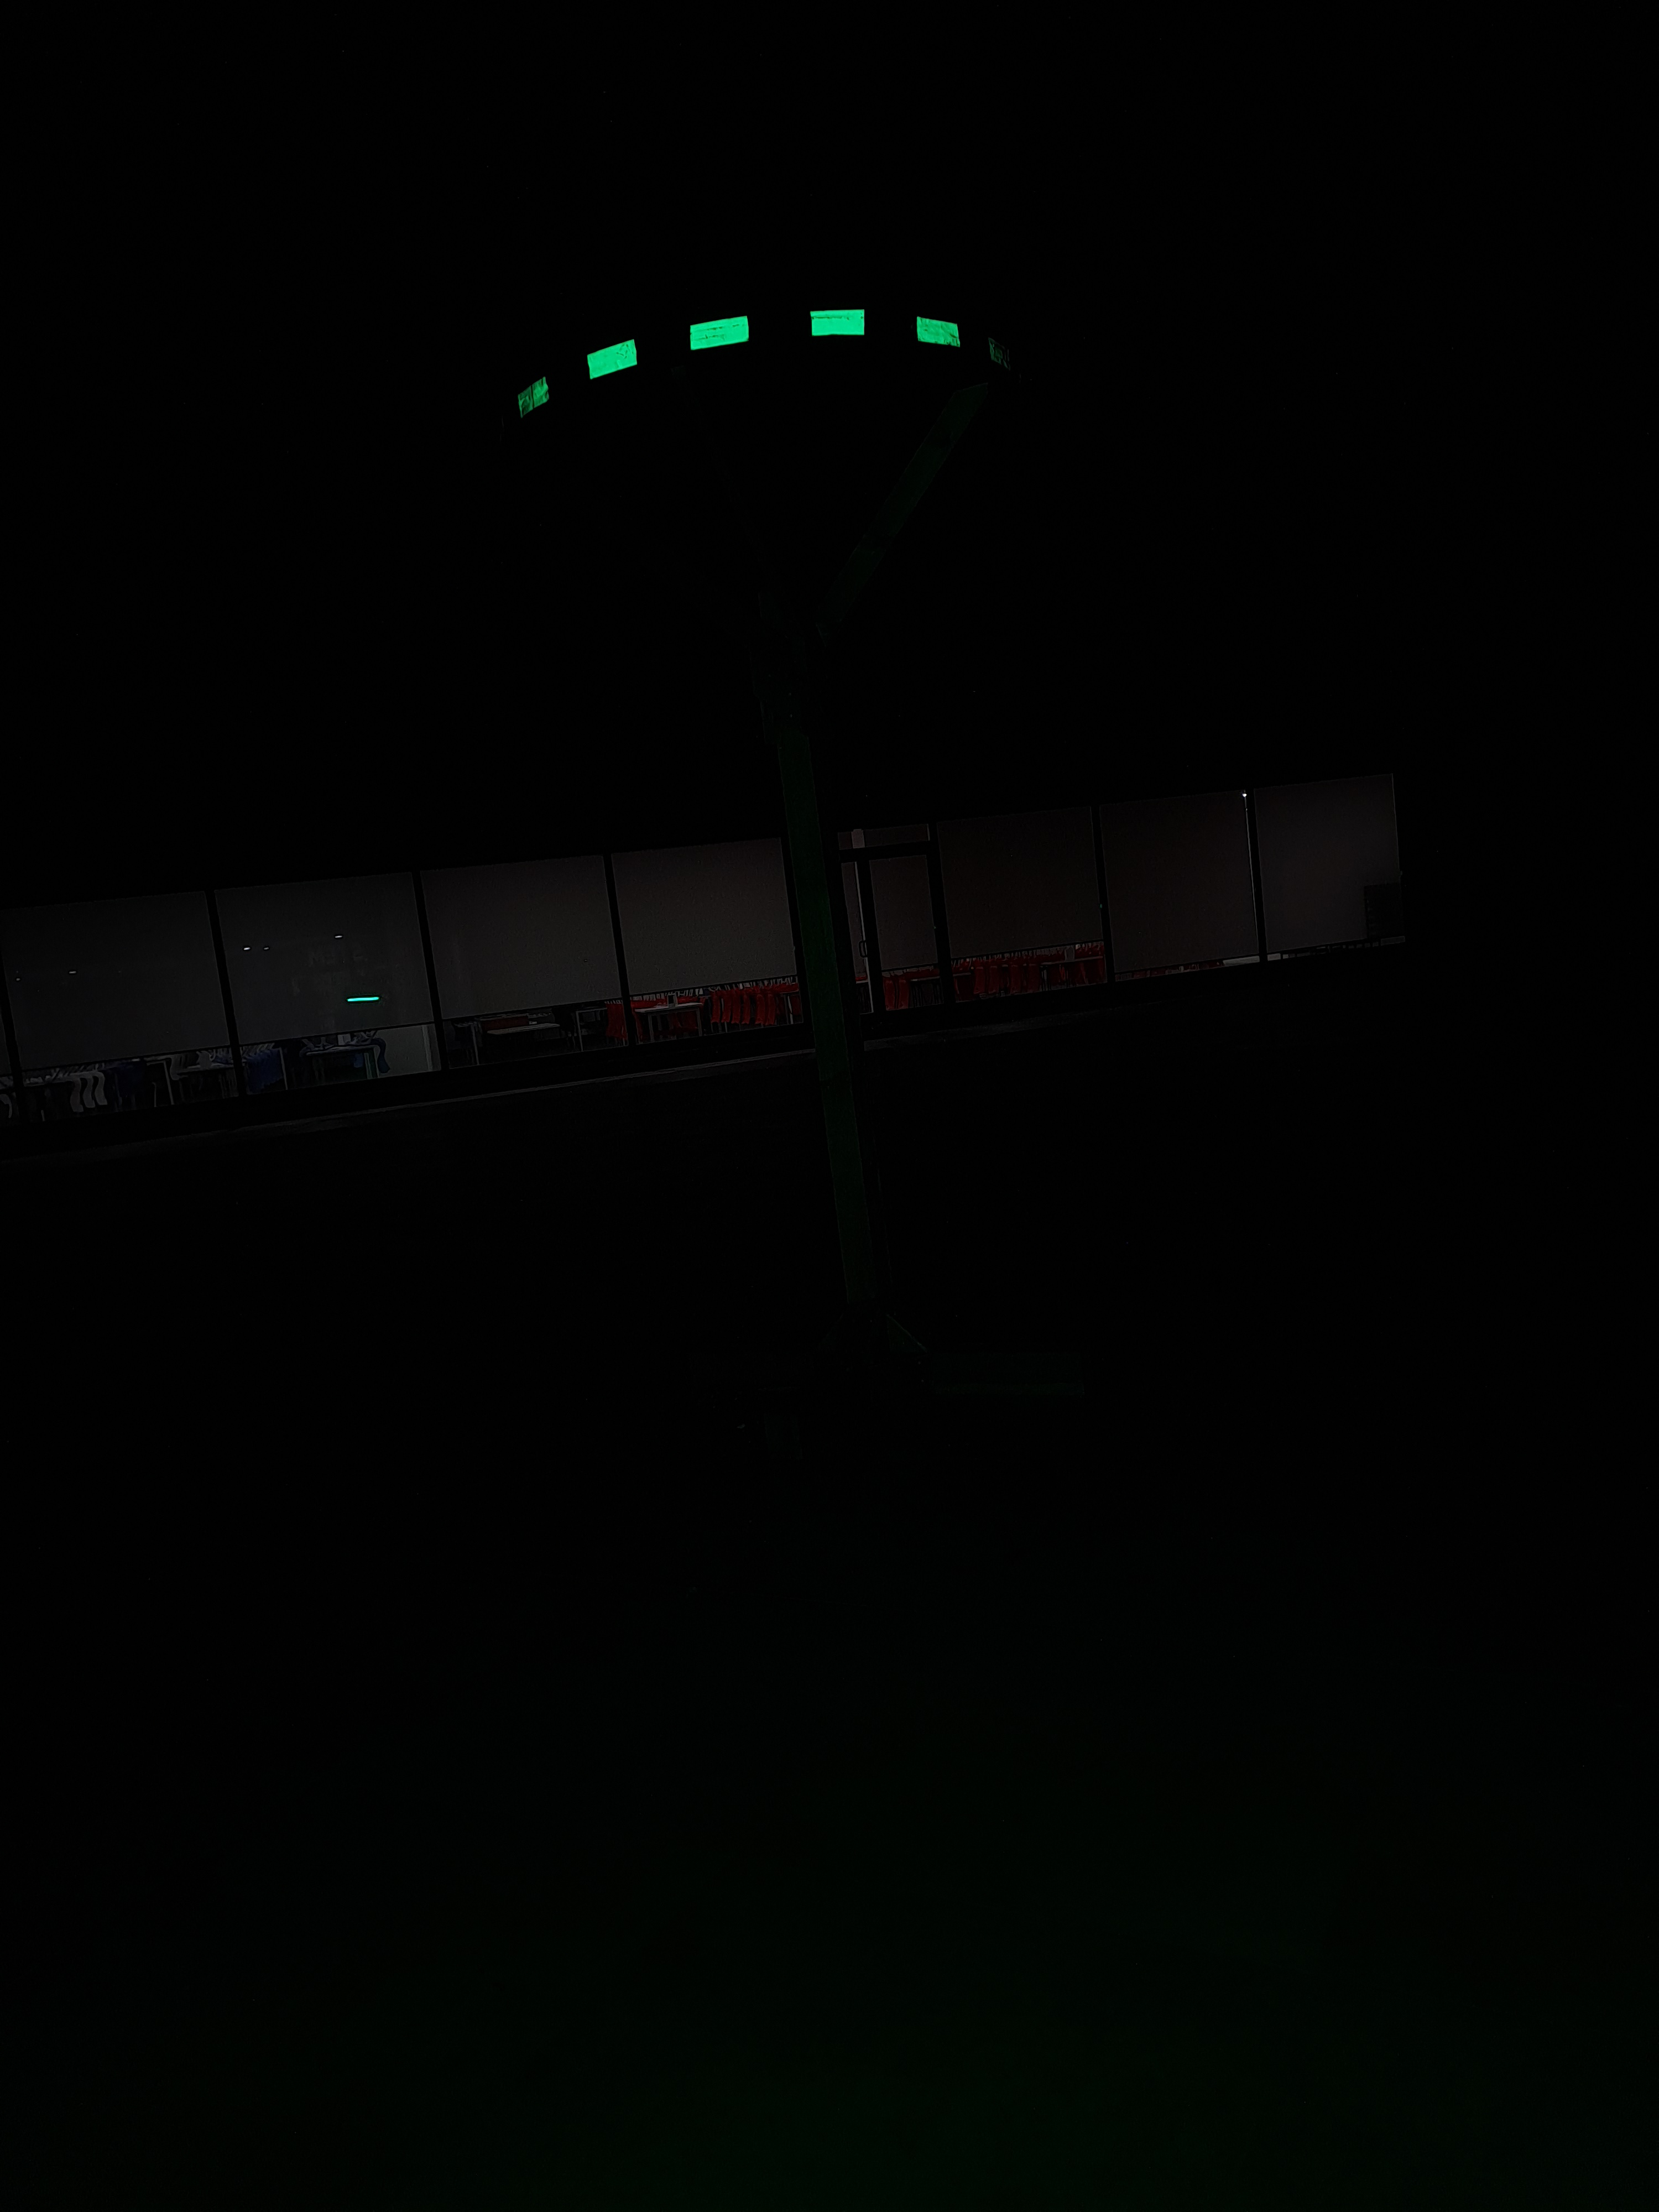hoop: (512, 305, 1021, 425)
